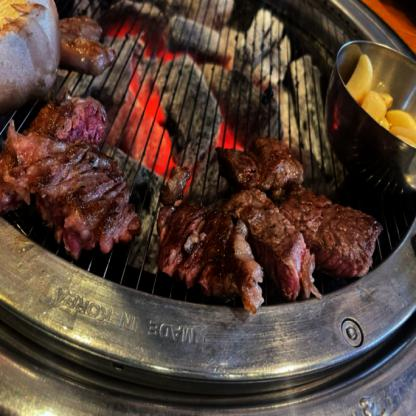Carne: (14, 132, 132, 252), (151, 198, 266, 302), (222, 197, 330, 290), (283, 198, 388, 277), (211, 141, 305, 201), (36, 101, 108, 148)
